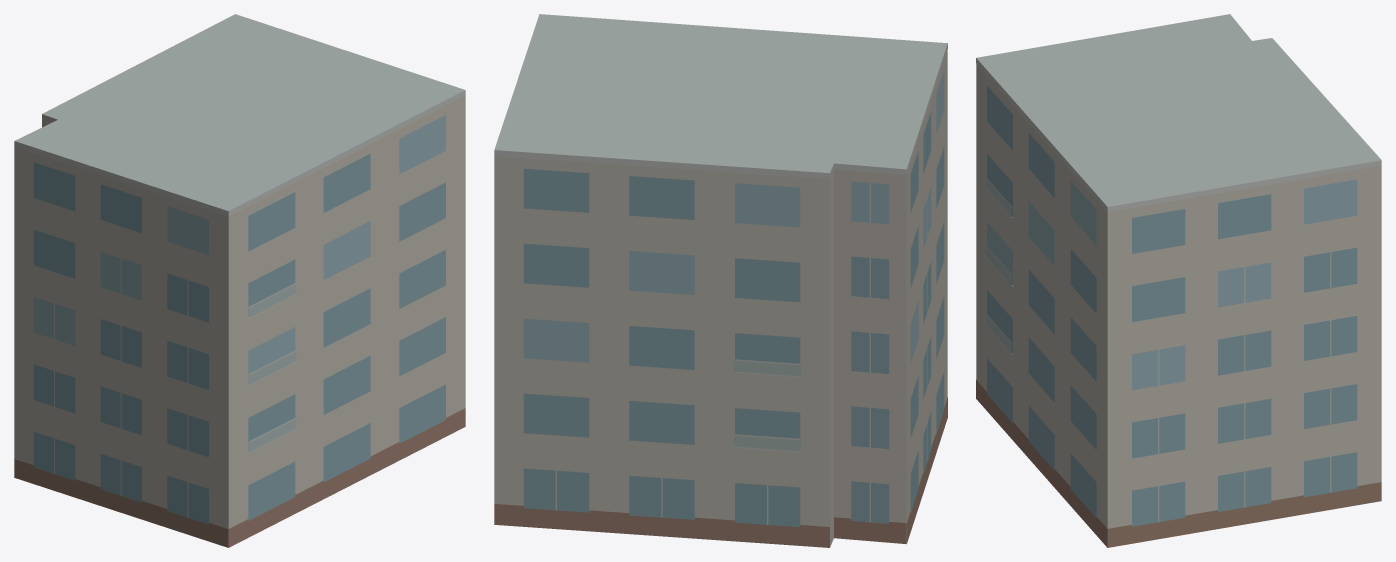
File: survey-upis-32853633.glb
3 renders of one model, left to right at view 1: azimuth 30°, elevation 25°; view 2: azimuth 150°, elevation 25°; view 3: azimuth 270°, elevation 25°, orthographic. The views are drawn at different scales.
Visible parts, largest first — view 1: survey-upis-32853633.tmp; view 2: survey-upis-32853633.tmp; view 3: survey-upis-32853633.tmp.
Part boxes in pixels (box(x1,y1,x2,y2)): survey-upis-32853633.tmp: box(14, 14, 465, 547); survey-upis-32853633.tmp: box(494, 14, 947, 547); survey-upis-32853633.tmp: box(976, 14, 1381, 547).
Bounding box in the file's own units: 18.52 × 15.25 × 16.45.
